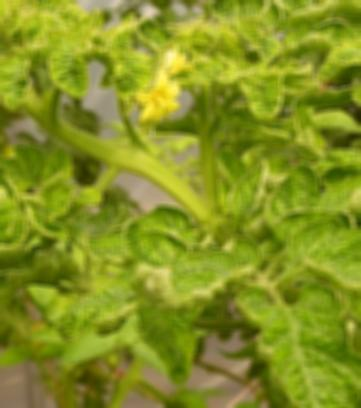Tomato leaf yellow virus: (240, 279, 361, 408), (80, 193, 195, 289), (165, 240, 263, 314), (257, 161, 347, 240), (290, 224, 361, 316), (218, 164, 281, 227), (0, 49, 45, 119), (43, 46, 97, 103), (230, 72, 288, 121), (311, 36, 361, 81)
